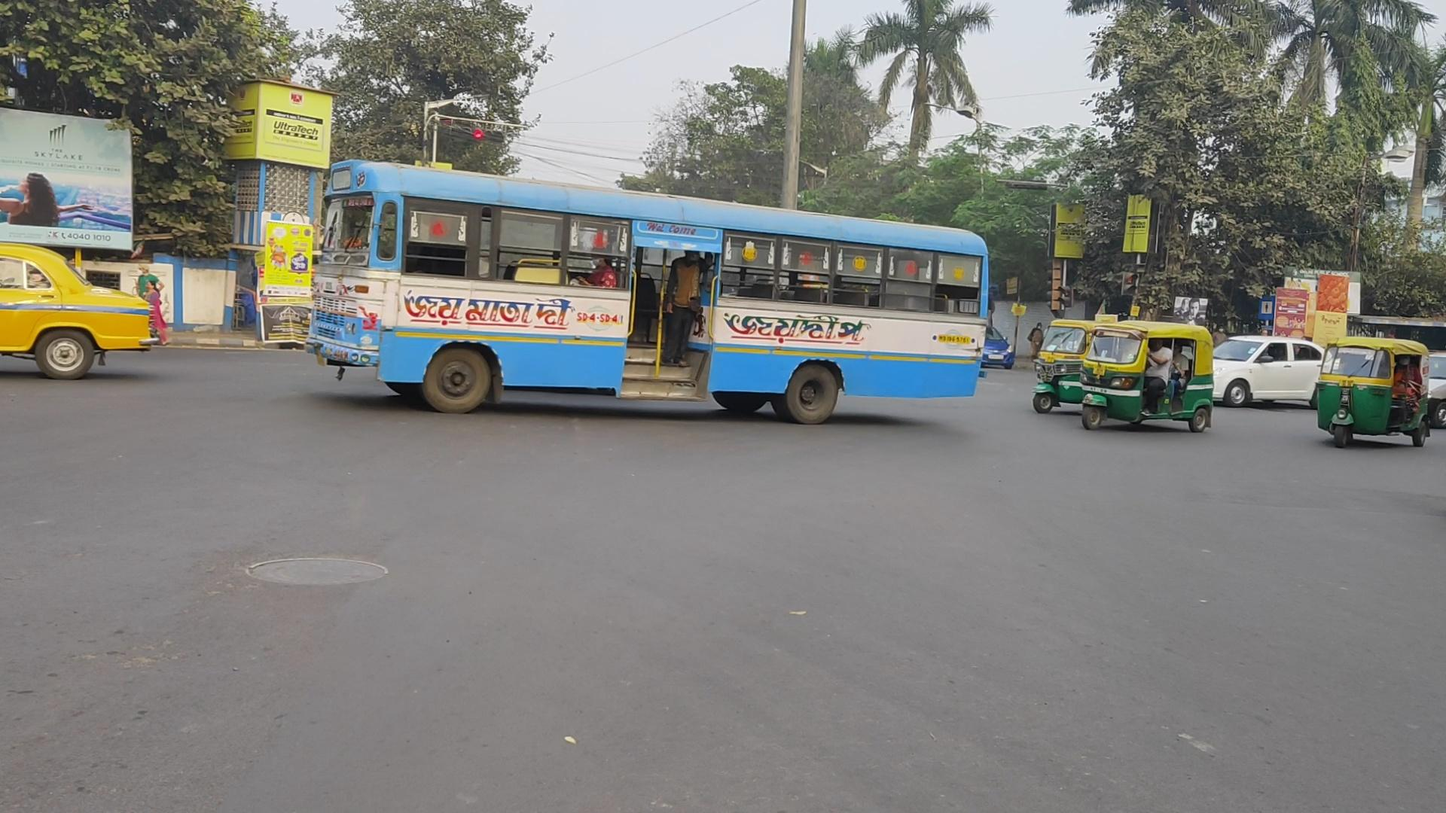Auto: (1080, 320, 1214, 433), (1316, 336, 1431, 448), (1032, 319, 1135, 414)
Bus: (307, 158, 990, 425)
car: (1, 242, 159, 380), (1200, 333, 1332, 410)
